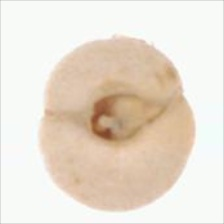L3: (81, 90, 167, 141)
L4: (38, 36, 196, 211)
